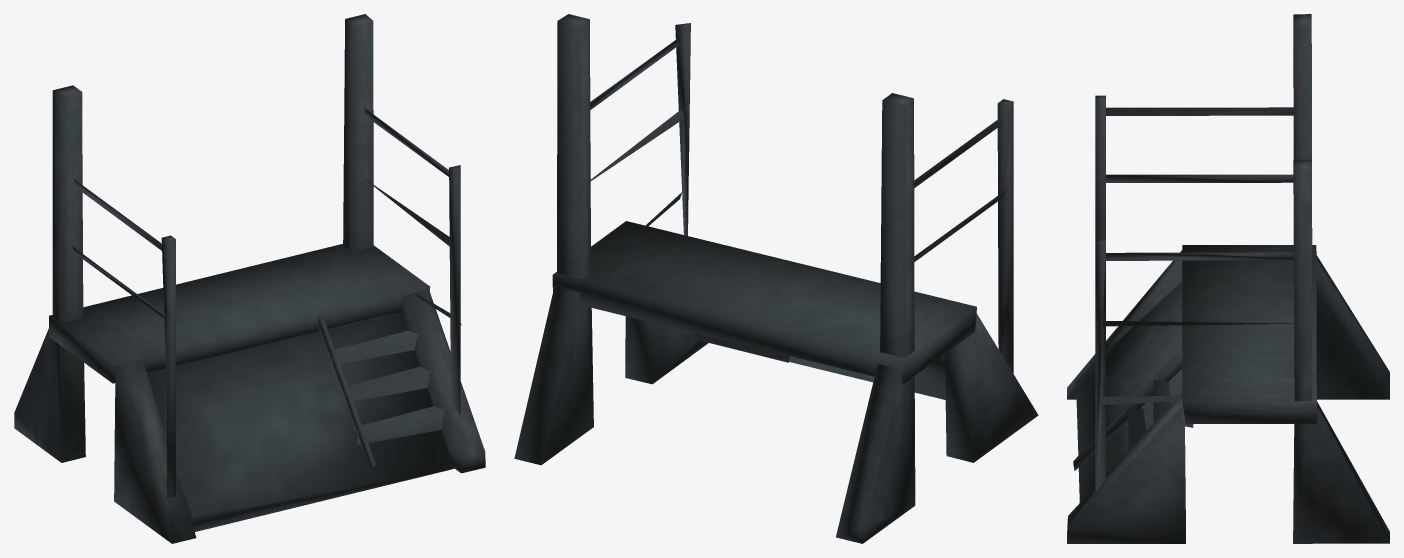
3 renders of one model, left to right at view 1: azimuth 30°, elevation 25°; view 2: azimuth 150°, elevation 25°; view 3: azimuth 270°, elevation 25°, orthographic. The views are drawn at different scales.
Size of the model in its own units: 4.33 by 4.8 by 3.76.
1 material, 1 textured.
